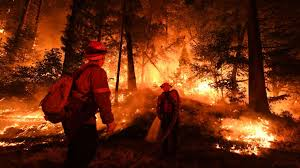fire: (117, 38, 240, 110), (211, 106, 291, 165), (1, 95, 37, 147)
